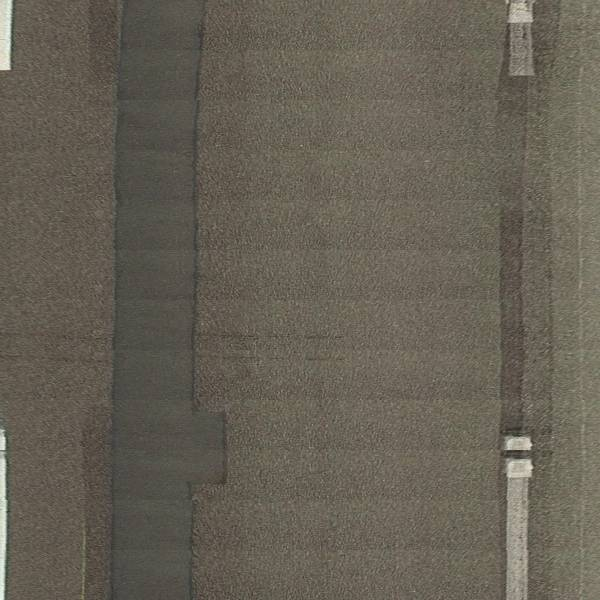road_damage: (108, 1, 237, 600), (195, 331, 346, 342)
